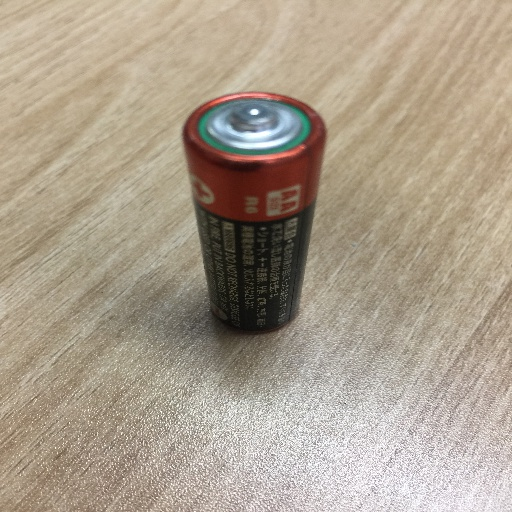Battery_0: (174, 81, 338, 345)
